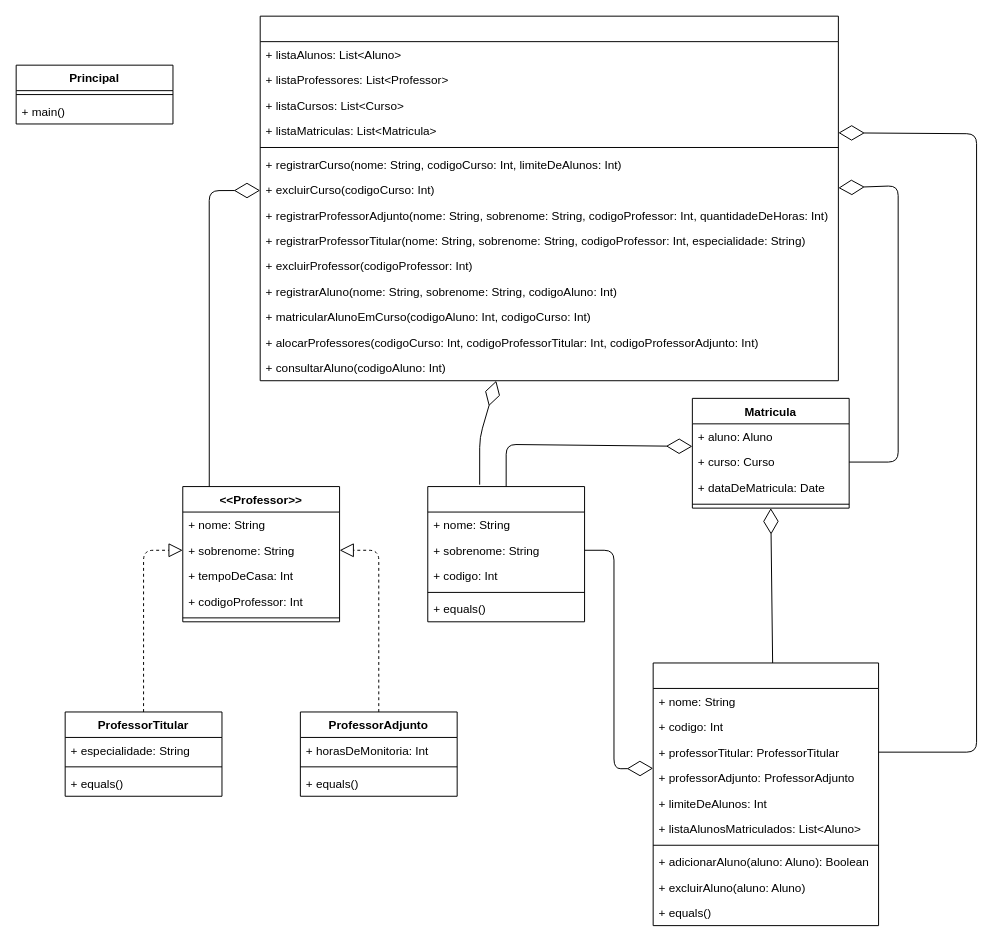
This 993x942 diagram has some shape labels left out. Each missing label, with the box of its shape:
Aluno: (427, 486, 585, 622)
Curso: (652, 662, 879, 926)
DigitalHouseManager: (259, 15, 838, 381)
